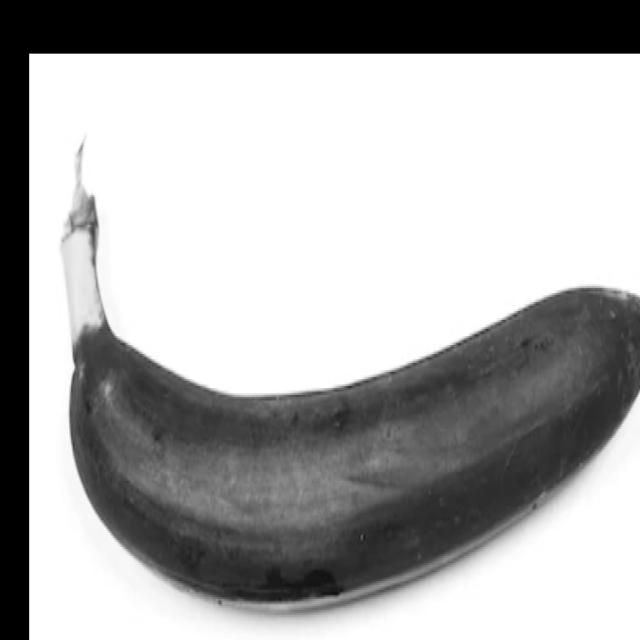Rotten: (42, 139, 640, 617)
